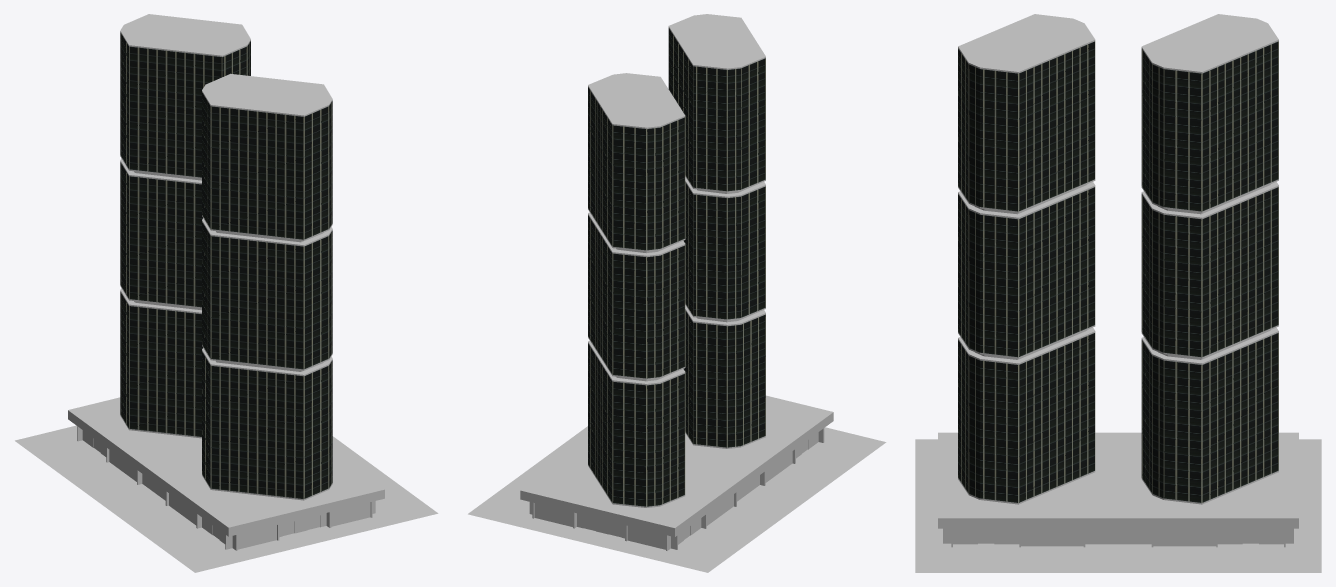
3 renders of one model, left to right at view 1: azimuth 30°, elevation 25°; view 2: azimuth 150°, elevation 25°; view 3: azimuth 270°, elevation 25°, orthographic. The views are drawn at different scales.
Visible parts, largest first — view 1: M-021; view 2: M-021; view 3: M-021.
Part boxes in pixels (bbox=[...]): M-021: bbox=[15, 14, 438, 572]; M-021: bbox=[468, 14, 886, 572]; M-021: bbox=[915, 14, 1321, 572].
Size of what is drawn, in the model's own units: 56 by 90.6 by 72.
